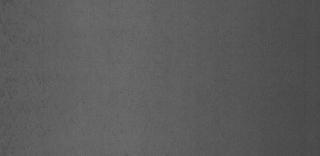silk spot: (0, 22, 70, 138)
